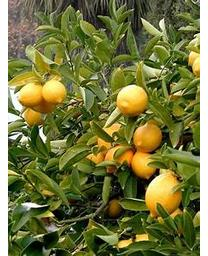lemon: (146, 171, 182, 217), (118, 84, 149, 114), (134, 123, 163, 150), (132, 151, 161, 178), (17, 83, 43, 107), (43, 82, 66, 105), (25, 108, 43, 125)
